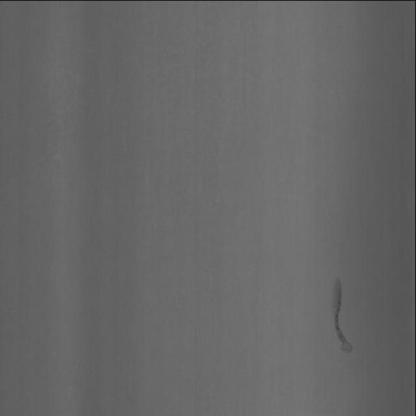water_spot: (324, 258, 354, 361)
